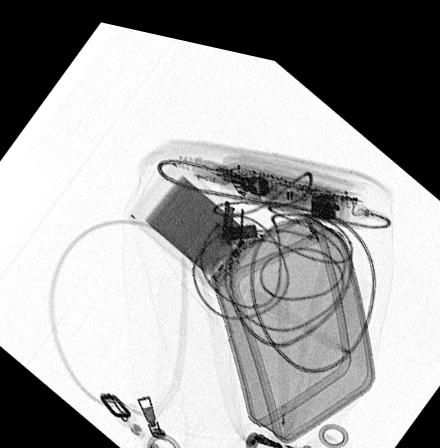Powerbank: (128, 148, 262, 281)
